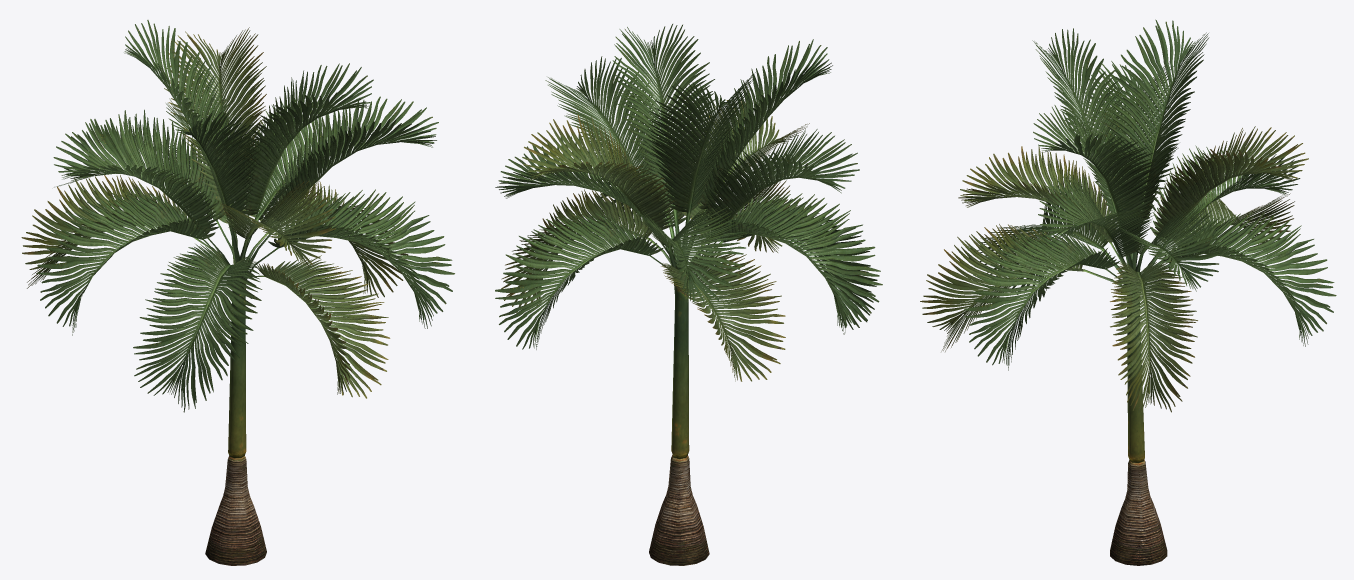
File: MK4_AneityumPalm.DAE
3 renders of one model, left to right at view 1: azimuth 30°, elevation 25°; view 2: azimuth 150°, elevation 25°; view 3: azimuth 270°, elevation 25°, orthographic. The views are drawn at different scales.
Parts seen in each view (by area): view 1: MK4_AneityumPalm; view 2: MK4_AneityumPalm; view 3: MK4_AneityumPalm.
Boxes of the visible parts, x1,y1,x2,y2 form: MK4_AneityumPalm: (21,20,454,565); MK4_AneityumPalm: (495,24,882,565); MK4_AneityumPalm: (920,19,1336,565).
Size of what is drawn, in the model's own units: 16.38 by 17.57 by 22.73.
